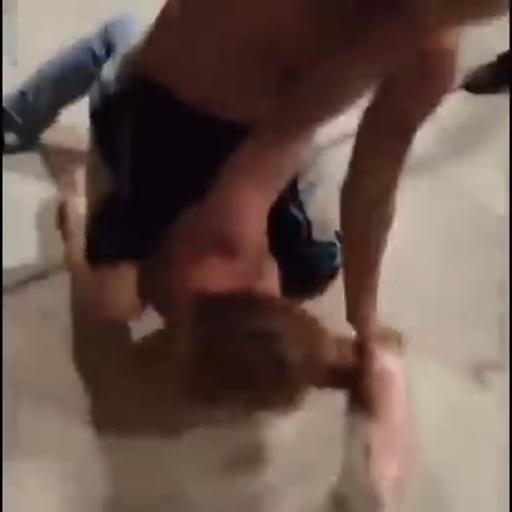violencia: (24, 1, 512, 445)
